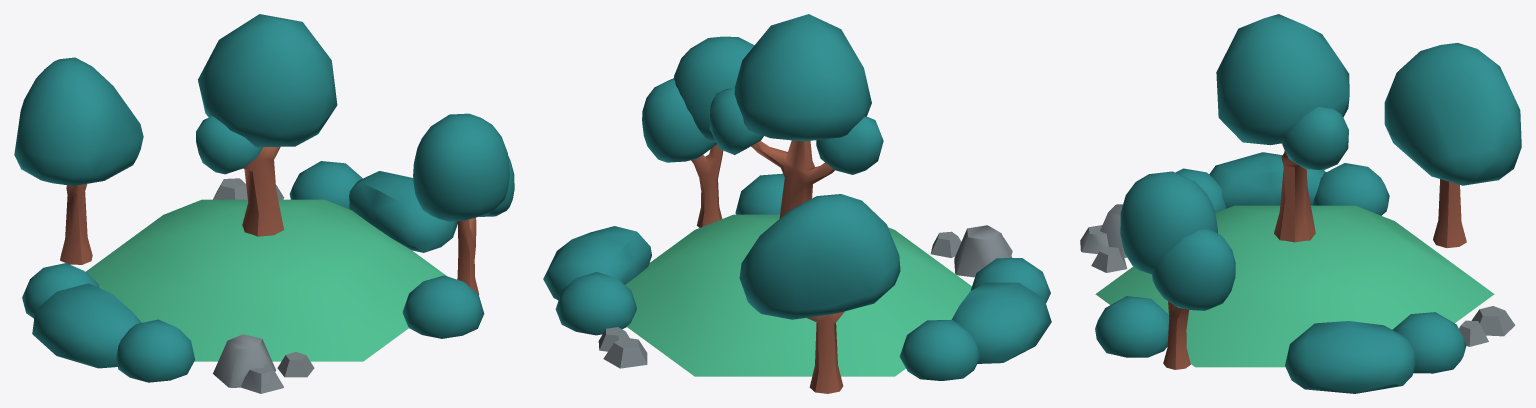
The model's file is detail_hill.gltf.glb.
3 renders of one model, left to right at view 1: azimuth 30°, elevation 25°; view 2: azimuth 150°, elevation 25°; view 3: azimuth 270°, elevation 25°, orthographic.
Visible parts, largest first — view 1: detail_hill; view 2: detail_hill; view 3: detail_hill.
Boxes of the visible parts, x1=… form: detail_hill: x1=14, y1=14, x2=514, y2=393; detail_hill: x1=543, y1=14, x2=1051, y2=393; detail_hill: x1=1080, y1=14, x2=1521, y2=393.
Size of the model in its own units: 59595 by 36073 by 52058.
